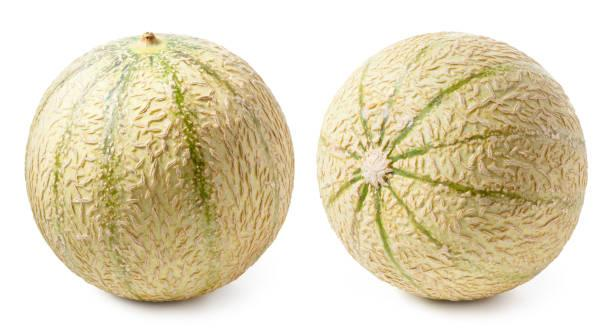cantaloupe: (315, 29, 588, 302), (23, 30, 295, 303)
